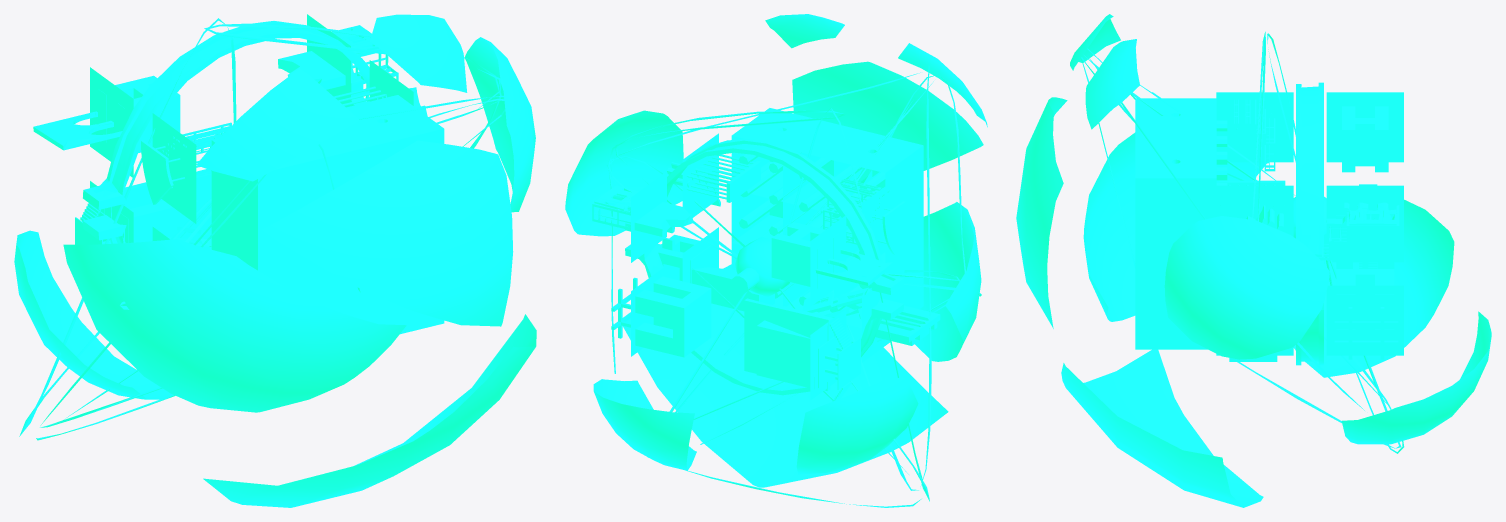
The picture shows the model from 3 angles, left to right: view 1: azimuth 30°, elevation 25°; view 2: azimuth 150°, elevation 25°; view 3: azimuth 270°, elevation 25°; orthographic projection. The views are drawn at different scales.
Visible parts, largest first — view 1: Voronoi_Fracture_2; view 2: Voronoi_Fracture_2; view 3: Voronoi_Fracture_2.
Part boxes in pixels (x1,y1,x2,y2): Voronoi_Fracture_2: (14,14,536,507); Voronoi_Fracture_2: (565,14,987,507); Voronoi_Fracture_2: (1016,14,1491,507).
Size of the model in its own units: 8.14 by 8.76 by 8.27.
